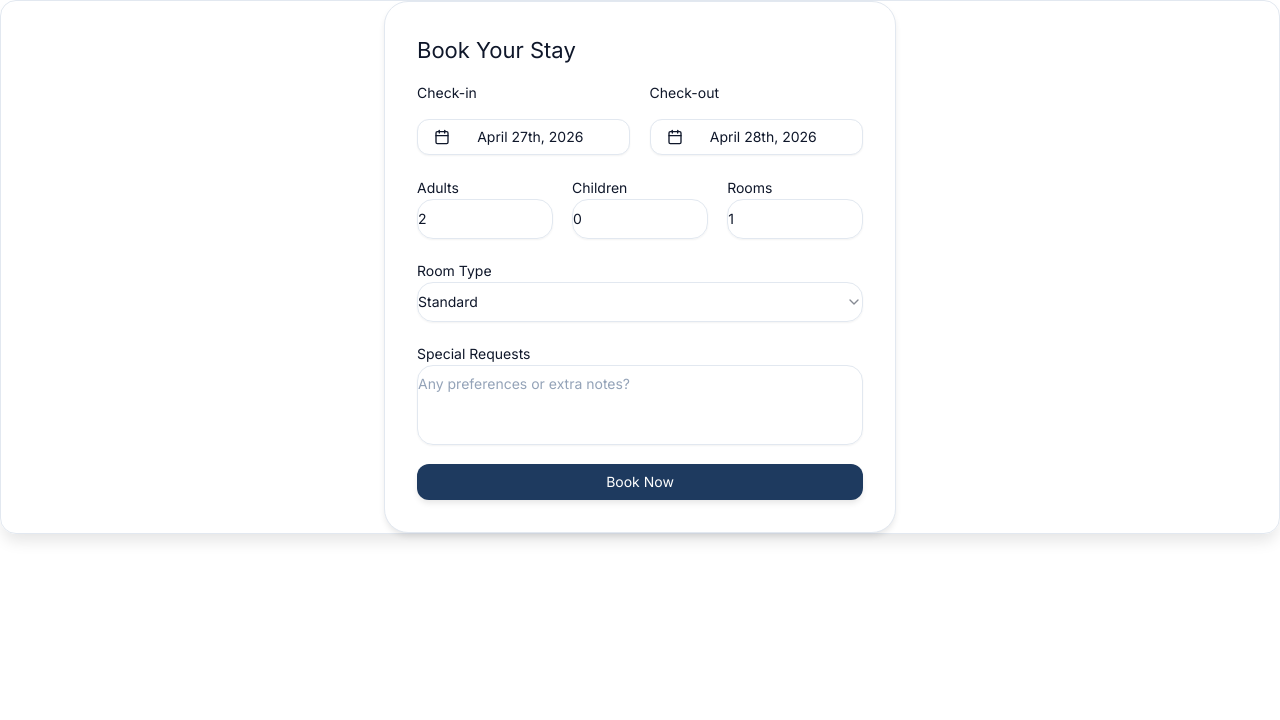
Test: BookingWidget - Story 1.5 Implementation › AC6: Mock Data and Integration › handles API error response
Click the button "Book Now".
click(640, 482)  # box [417,464,863,500]
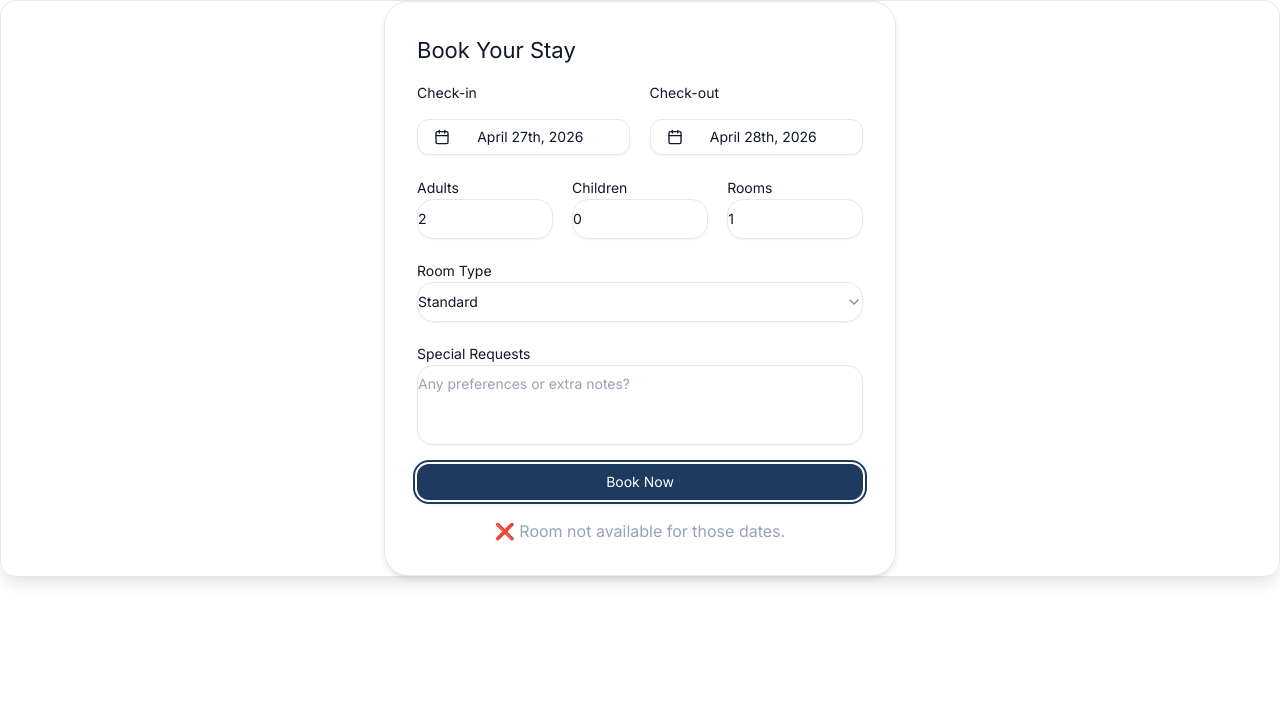
Check: the text "❌ Room not available for those dates." is shown, box [495,521,785,541]
